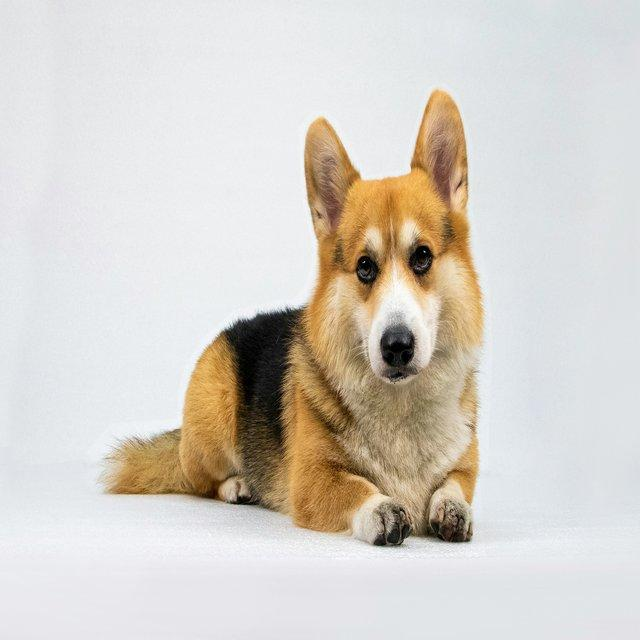corgi: (99, 87, 485, 547)
